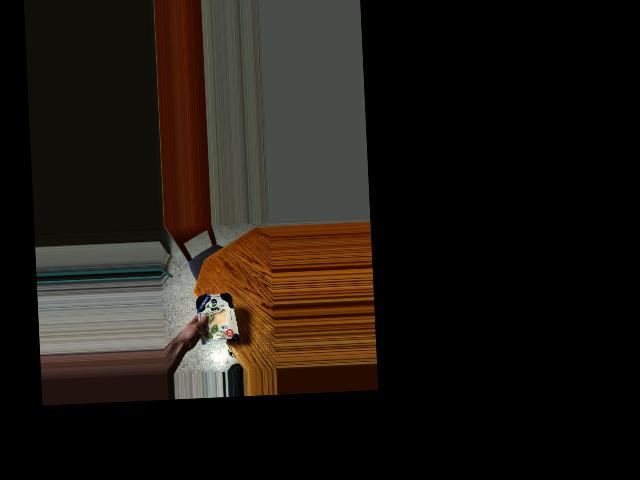cheese: (192, 286, 233, 353)
